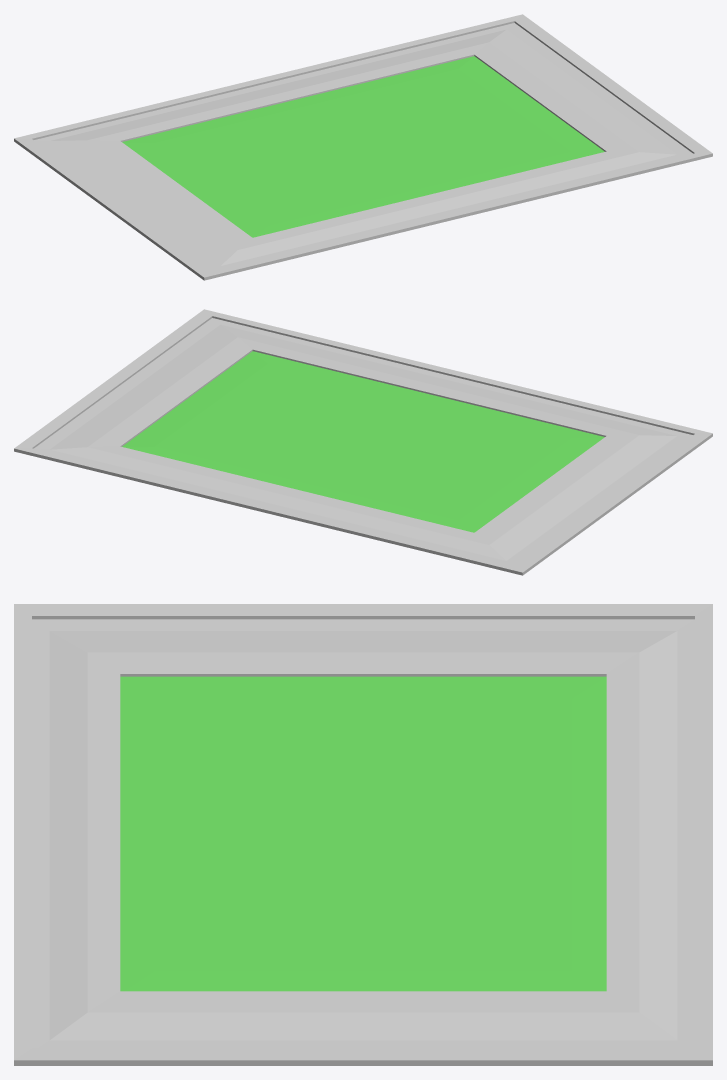
Rendered from stade.fbx.
The picture shows the model from 3 angles, top to bottom: view 1: azimuth 30°, elevation 25°; view 2: azimuth 150°, elevation 25°; view 3: azimuth 270°, elevation 25°; orthographic projection. The views are drawn at different scales.
Visible parts, largest first — view 1: Stade; view 2: Stade; view 3: Stade.
Boxes of the visible parts, left/top/right/bottom form: Stade: left=14, top=14, right=712, bottom=280; Stade: left=14, top=309, right=712, bottom=575; Stade: left=14, top=604, right=712, bottom=1065.
Bounding box in the file's own units: 17586 × 100 × 11389.
